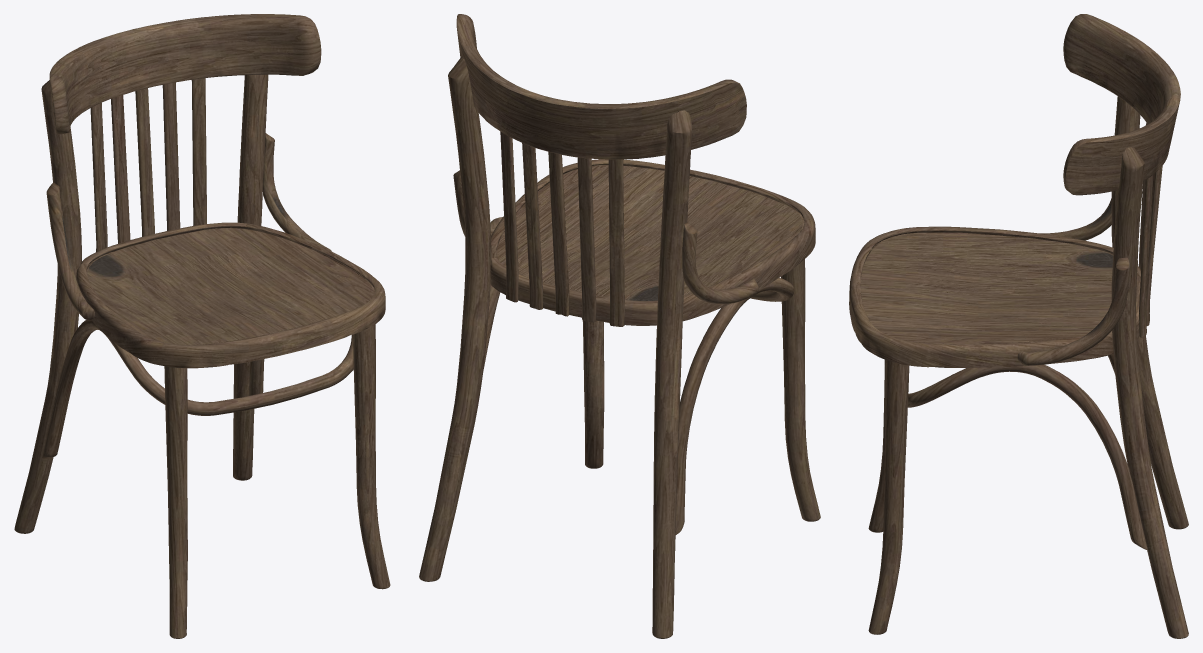
File: chair2.glb
The picture shows the model from 3 angles, left to right: view 1: azimuth 30°, elevation 25°; view 2: azimuth 150°, elevation 25°; view 3: azimuth 270°, elevation 25°; orthographic projection. The views are drawn at different scales.
Visible parts, largest first — view 1: Classichair-_01 - Default_0; view 2: Classichair-_01 - Default_0; view 3: Classichair-_01 - Default_0.
Part boxes in pixels (left/top/right/bottom): Classichair-_01 - Default_0: left=14, top=14, right=390, bottom=638; Classichair-_01 - Default_0: left=419, top=14, right=820, bottom=638; Classichair-_01 - Default_0: left=849, top=14, right=1188, bottom=638.
Bounding box in the file's own units: 13.34 × 23.42 × 14.34.
Materials: 1 (1 with a texture image).
